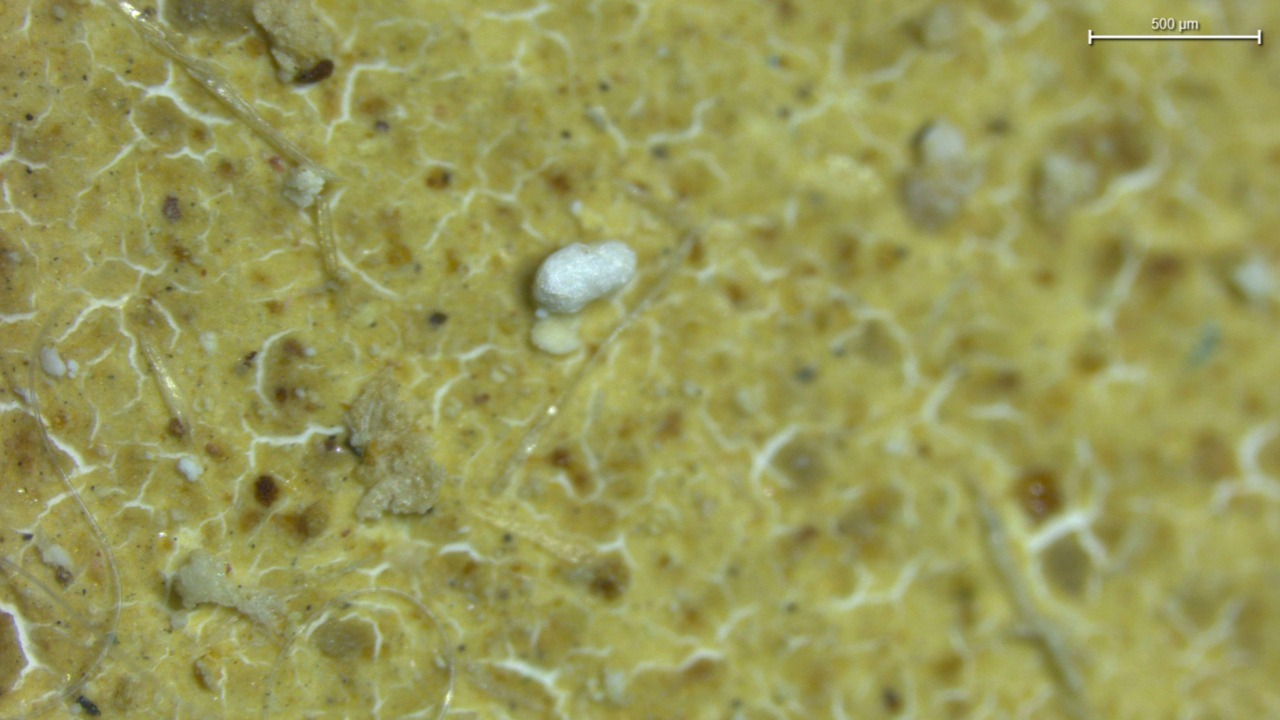microplastic_fragment: (346, 374, 444, 518), (172, 549, 284, 630), (532, 241, 636, 313), (252, 0, 335, 85), (282, 167, 325, 209)
